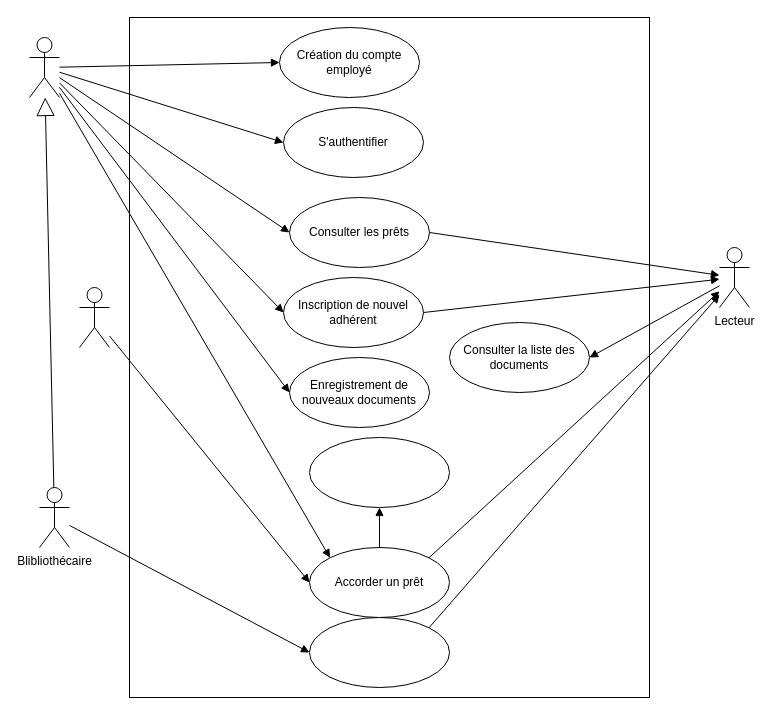
The diagram is 772 pixels wide and 715 high, and some of its shapes have lost their labels. Here are the shapes that lost their labels. From the top down, the centre of each, then its label:
At point (44, 67): "Employé".
At point (94, 317): "Bénévole".
At point (379, 472): "Génère une fiche de prêt".
At point (379, 652): "Relancer pour finir le prêt".
